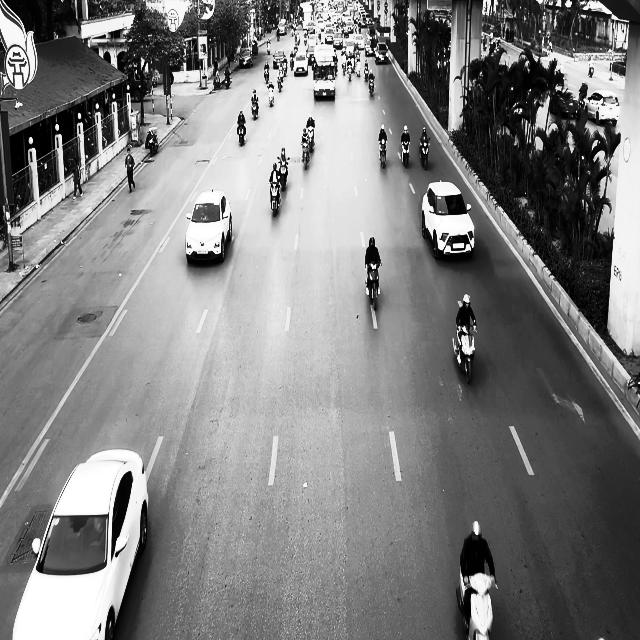bus: (312, 44, 337, 100)
car: (12, 448, 148, 639), (421, 180, 475, 260), (185, 188, 232, 264), (584, 90, 620, 126), (549, 88, 579, 119), (293, 52, 308, 75), (374, 42, 389, 64), (239, 48, 253, 68), (272, 49, 286, 69)
motorbike: (455, 564, 498, 640), (452, 322, 477, 384), (365, 261, 381, 310), (269, 179, 281, 217), (419, 138, 430, 170), (278, 157, 289, 189), (300, 138, 310, 169), (147, 129, 158, 155), (378, 138, 387, 168), (400, 142, 410, 168), (251, 95, 259, 120), (237, 123, 246, 145), (267, 84, 274, 106), (368, 76, 374, 96), (277, 73, 283, 91)
